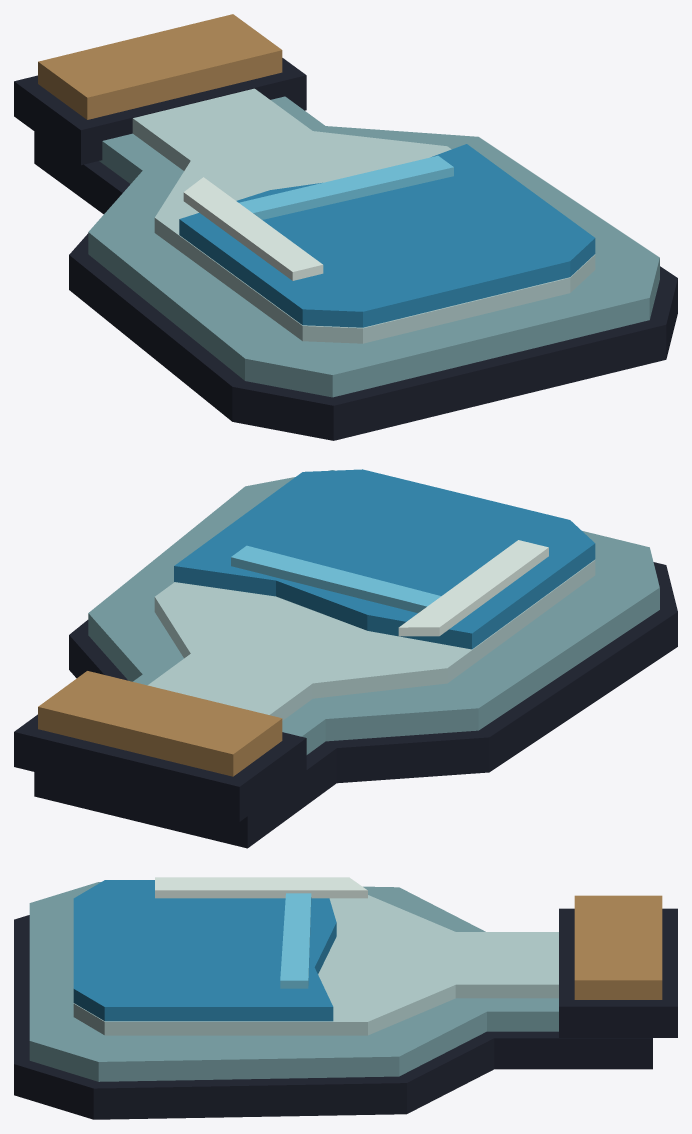
The model's file is bottle_full.fbx.
The picture shows the model from 3 angles, top to bottom: view 1: azimuth 30°, elevation 25°; view 2: azimuth 150°, elevation 25°; view 3: azimuth 270°, elevation 25°; orthographic projection. The views are drawn at different scales.
Parts seen in each view (by area): view 1: bottle_full__Icon; view 2: bottle_full__Icon; view 3: bottle_full__Icon.
Part boxes in pixels (x1,y1,x2,y2): bottle_full__Icon: (14,14,677,440); bottle_full__Icon: (14,469,677,848); bottle_full__Icon: (14,877,677,1119).
Bounding box in the file's own units: 0.7307 × 0.179 × 1.06.
Materials: 1 (1 with a texture image).
